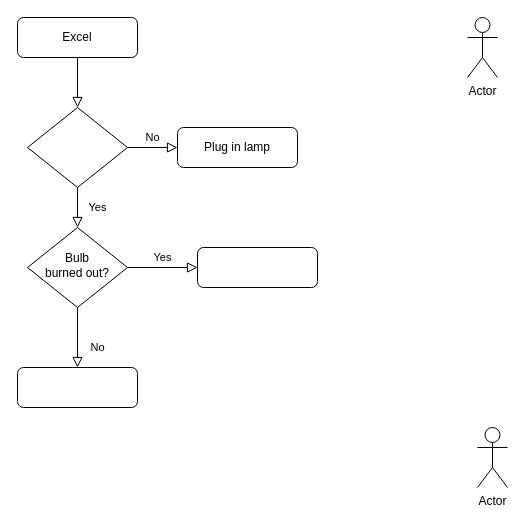
This 525x526 diagram has some shape labels left out. Each missing label, with the centre of its shape:
"Lamp plugged in?" goes at pixel 77 147.
"Repair Lamp" goes at pixel 77 387.
"Replace Bulb" goes at pixel 257 267.
